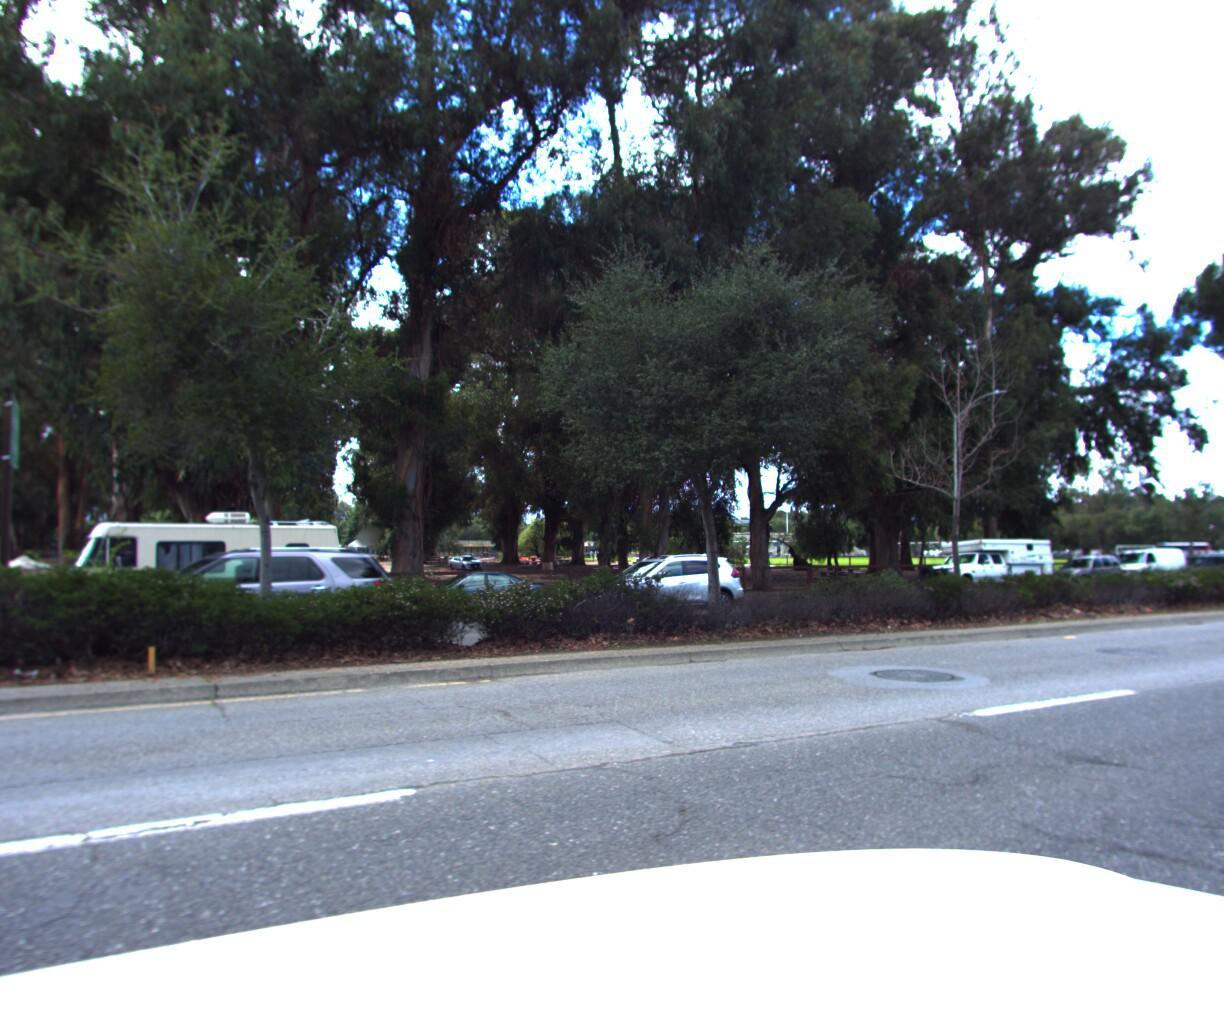car: (76, 542, 397, 675), (567, 554, 757, 628), (390, 571, 553, 626), (1089, 546, 1190, 589), (1037, 552, 1128, 592), (1156, 550, 1224, 587)
other_vehicle: (49, 515, 362, 653), (895, 535, 1060, 600)
